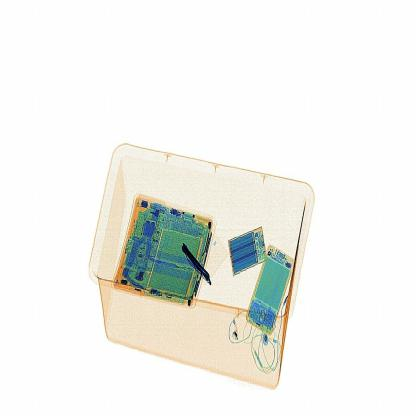knife: (174, 238, 218, 291)
